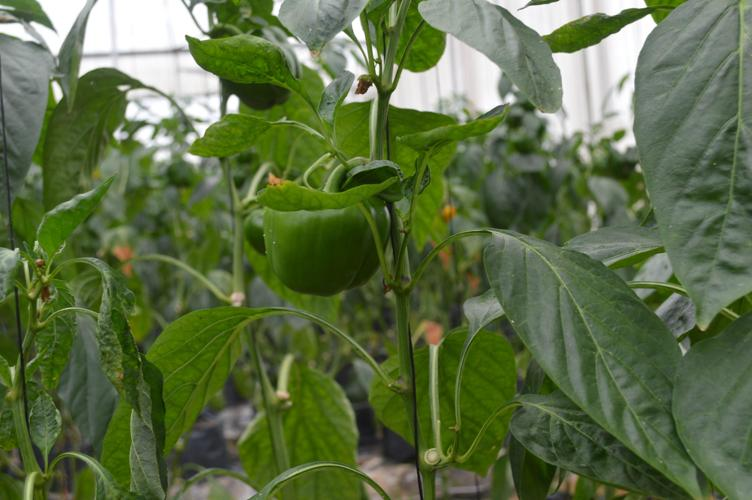BellPepper: (254, 192, 391, 295), (224, 23, 299, 107)
